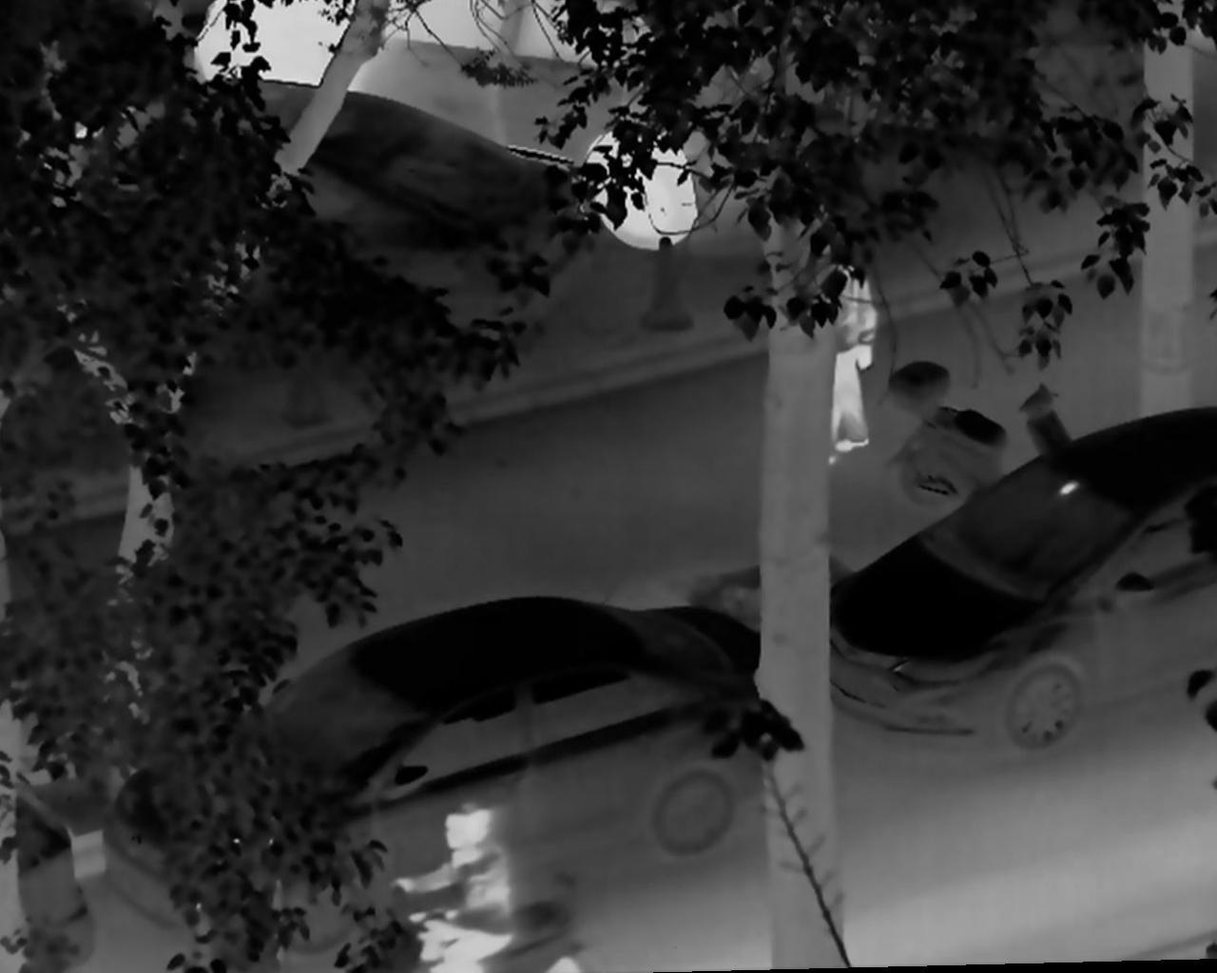person: (391, 799, 522, 973), (826, 245, 878, 470)
